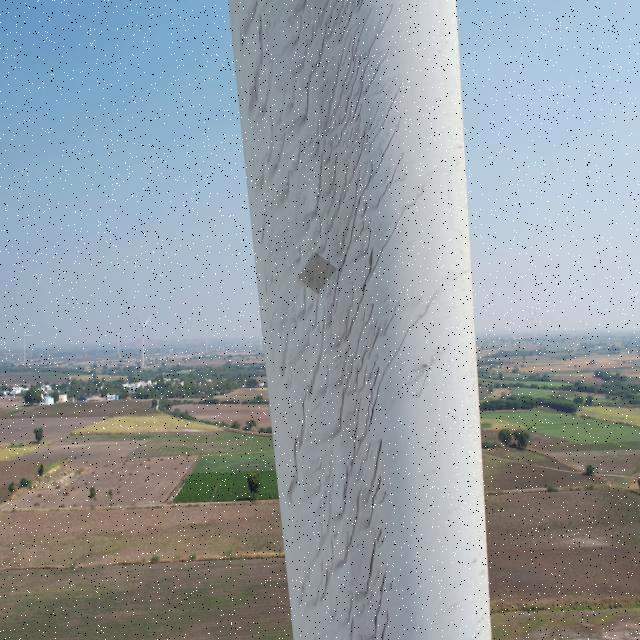Dirt: (228, 4, 450, 640)
